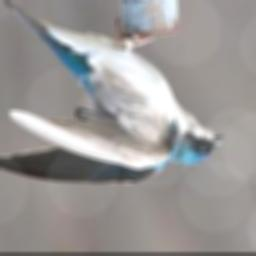Swallow: (0, 0, 228, 189)
